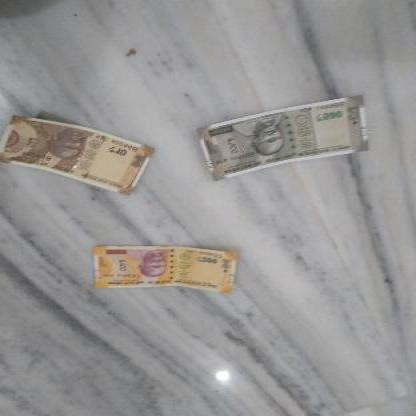New10Front: (0, 118, 164, 198)
New200Front: (93, 245, 236, 291)
New500Front: (215, 98, 365, 183)
